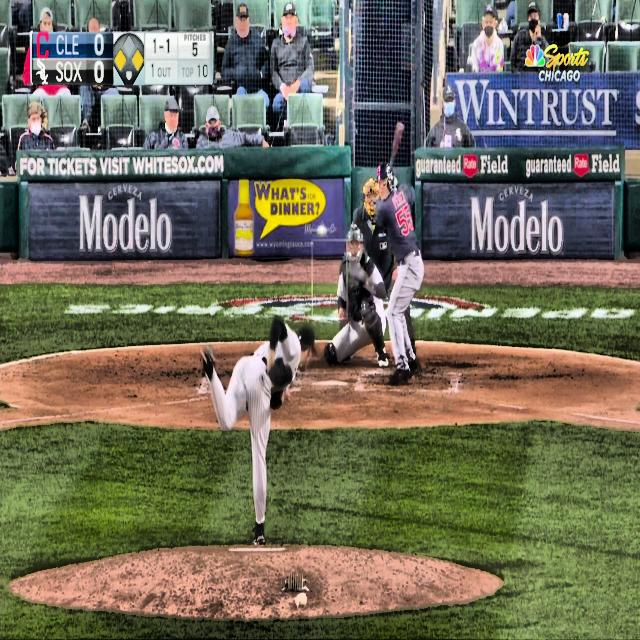baseball: (316, 224, 328, 238)
